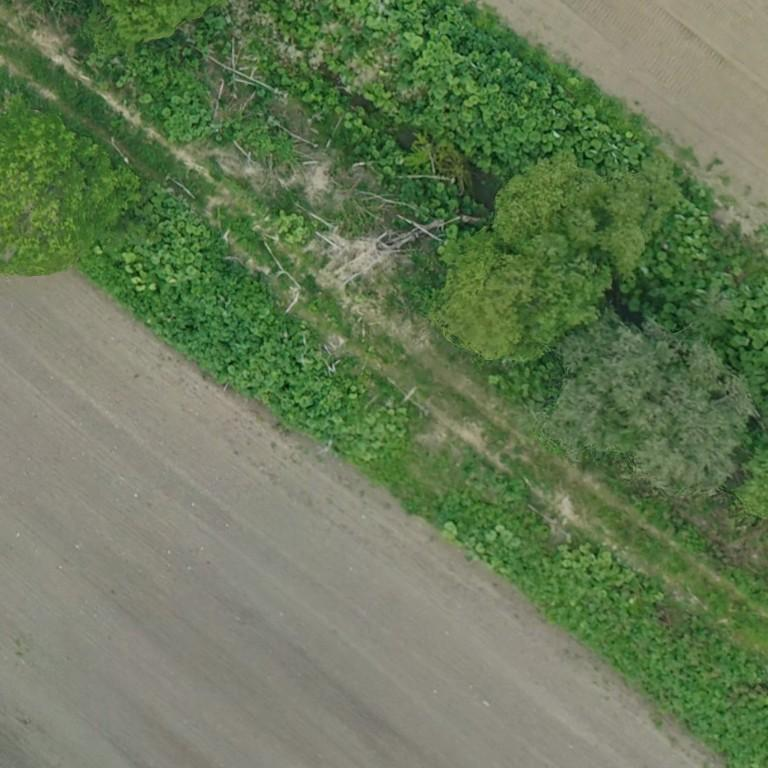hogweed: (93, 242, 362, 443)
